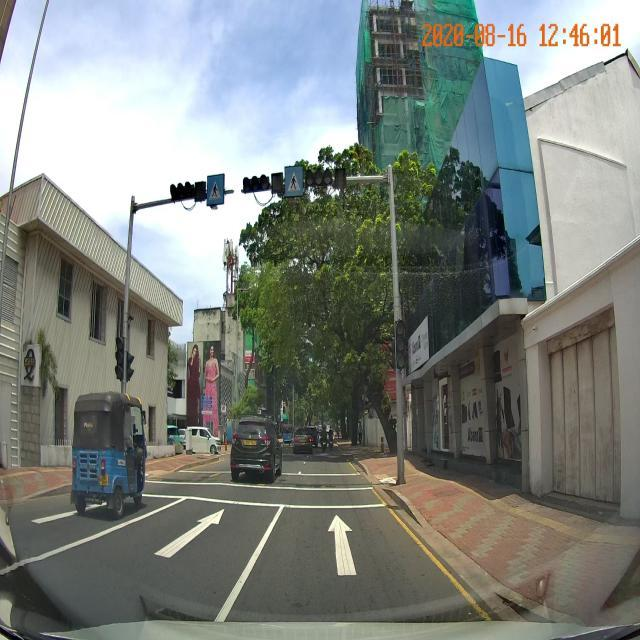forward: (239, 509, 450, 580)
